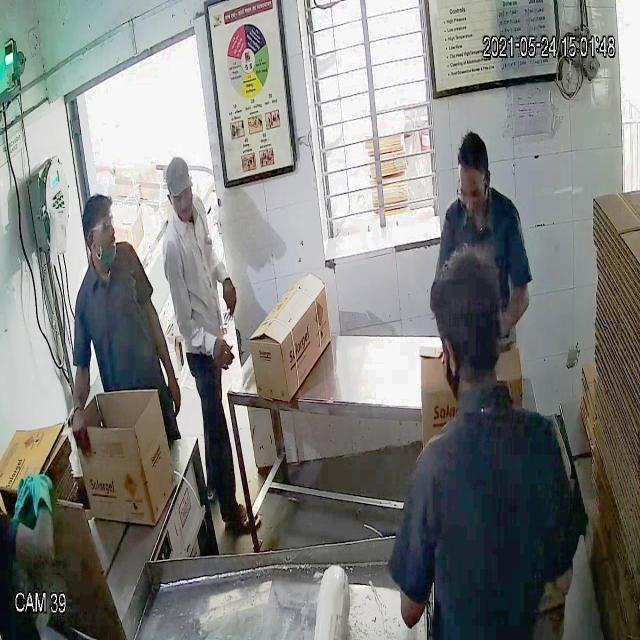apron: (21, 468, 58, 522)
hairnet: (85, 226, 124, 271)
no_apron: (65, 405, 105, 460), (210, 331, 240, 372), (221, 270, 243, 323), (164, 369, 184, 417)
